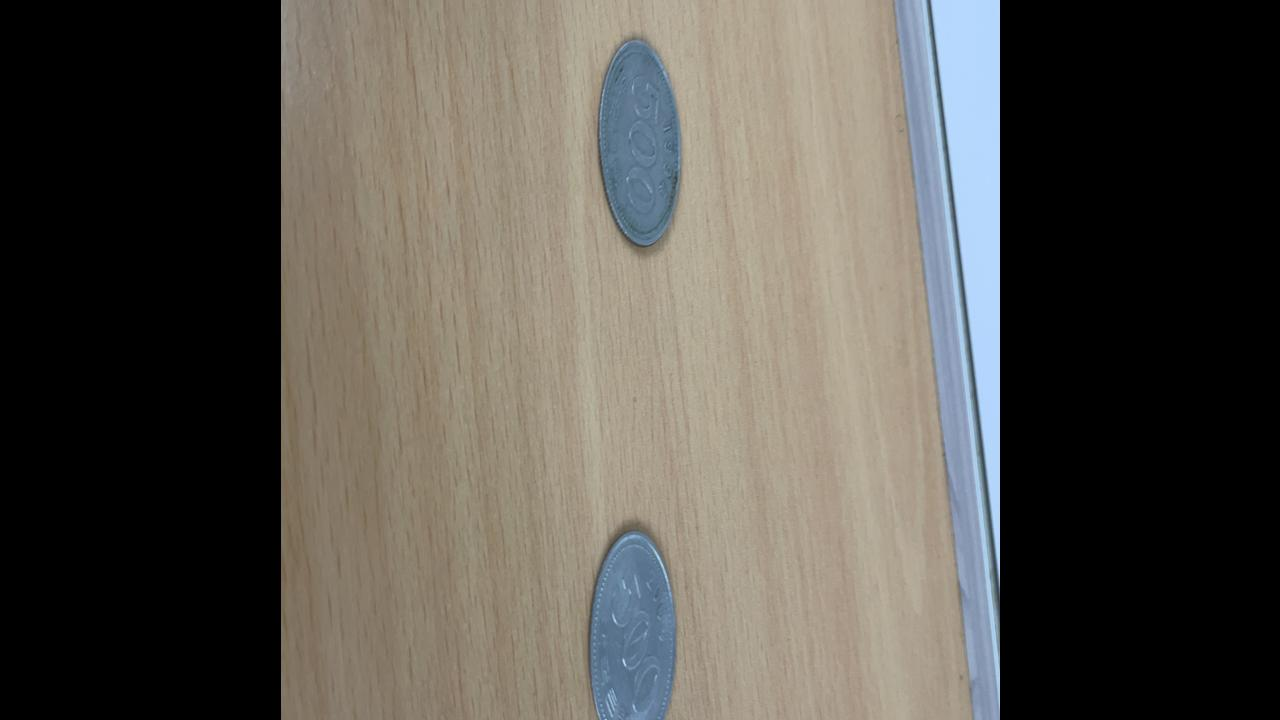coin: (596, 34, 684, 254), (587, 528, 678, 720)
